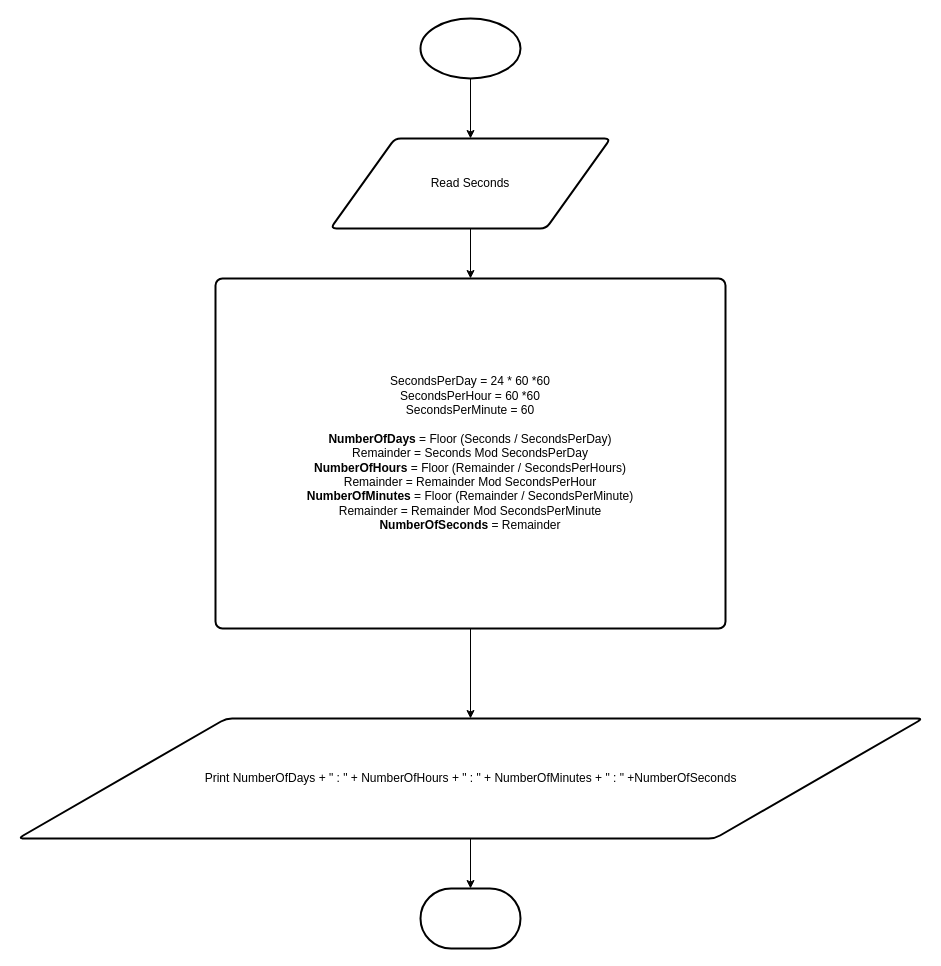
Some shapes in this 941 by 966 pixel diagram are drawn without their labels. Each missing label, with the centre of its shape:
END: (x=470, y=918)
START: (x=470, y=48)
